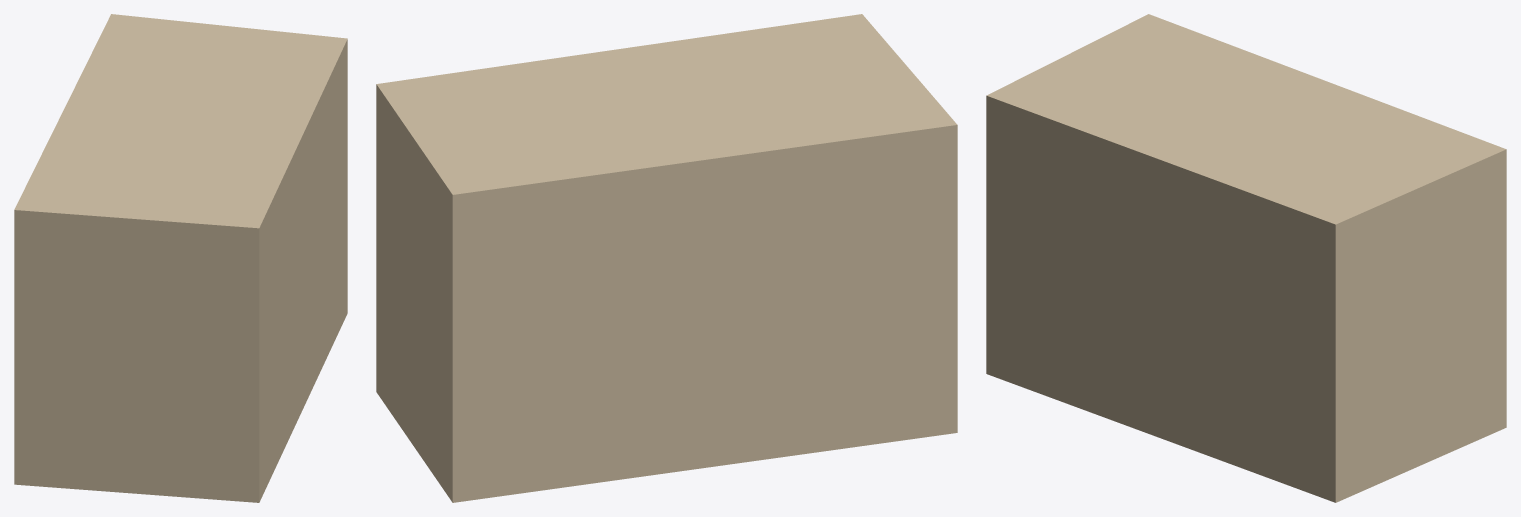
File: -3_8-estimated-coarse.glb
3 renders of one model, left to right at view 1: azimuth 30°, elevation 25°; view 2: azimuth 150°, elevation 25°; view 3: azimuth 270°, elevation 25°, orthographic. The views are drawn at different scales.
Bounding box in the file's own units: 29.21 × 18 × 30.49.
